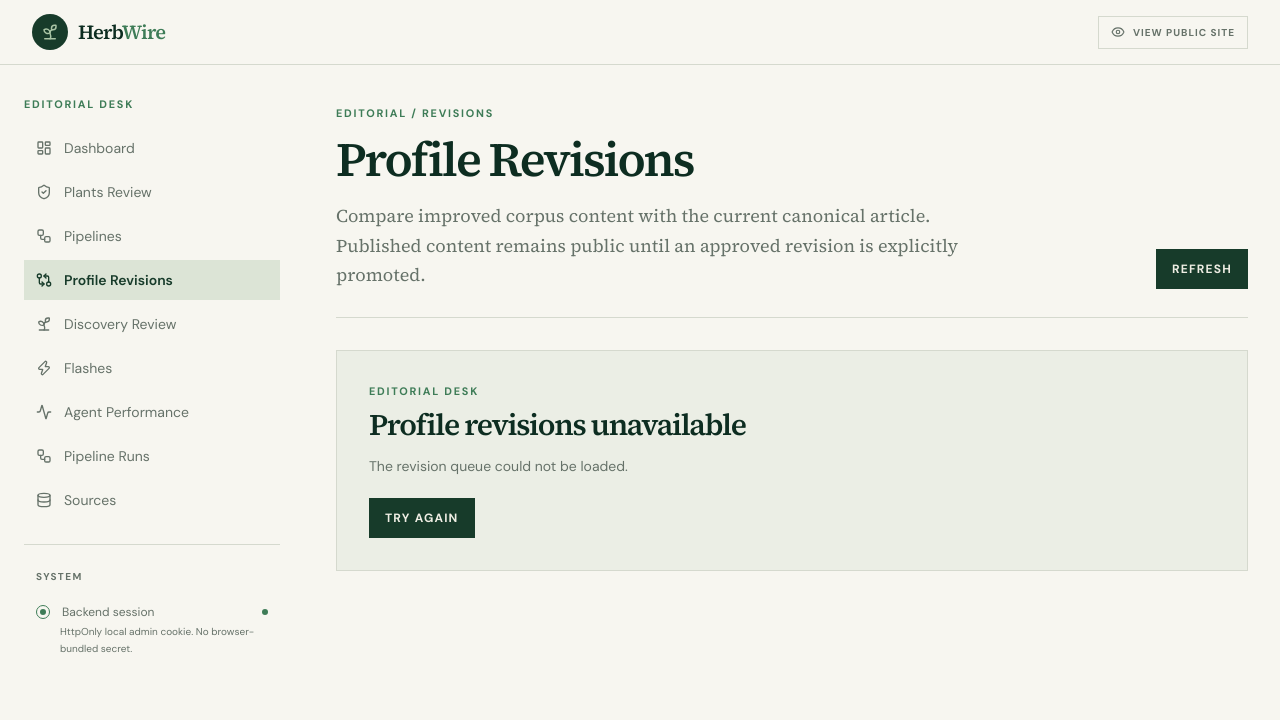
Test: Milestone 2 final UI and functionality › renders revision empty and retry states
Check: the heading "Profile revisions unavailable" is shown, box [369, 404, 746, 445]
Click the button "Try again" at (422, 518), box [369, 498, 475, 538]
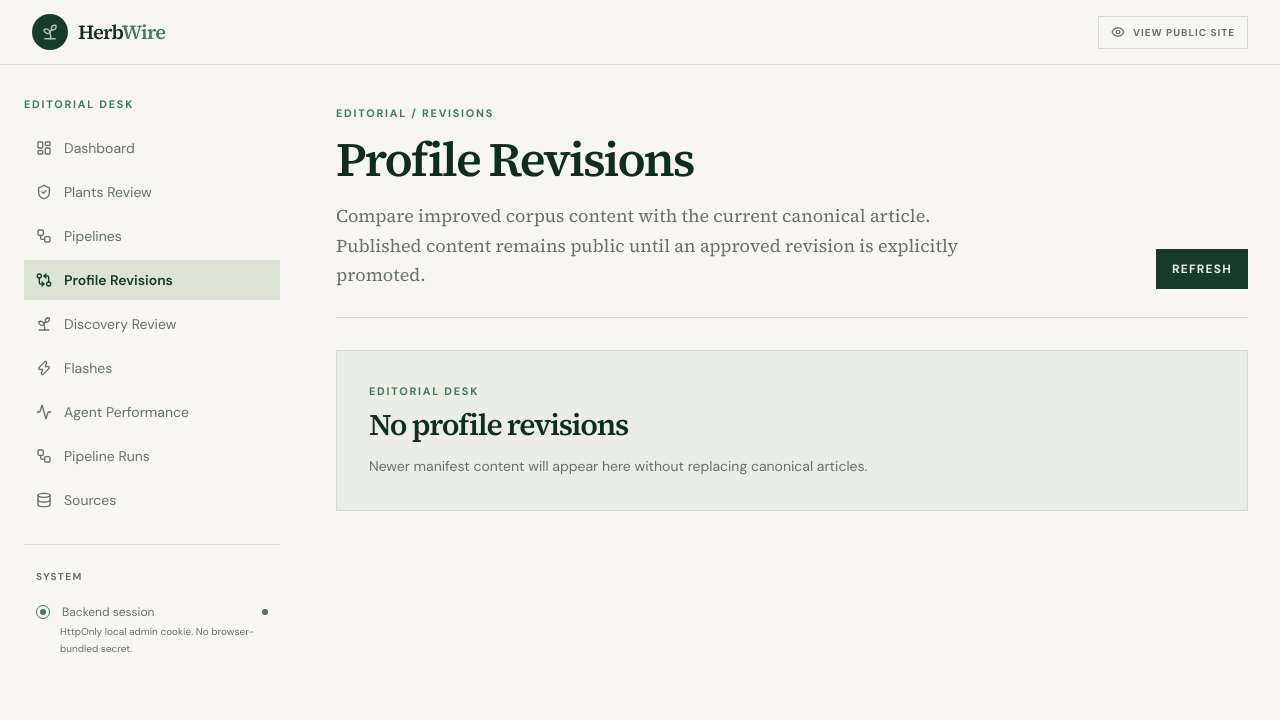
Check: the heading "No profile revisions" is shown, box [369, 404, 628, 445]
